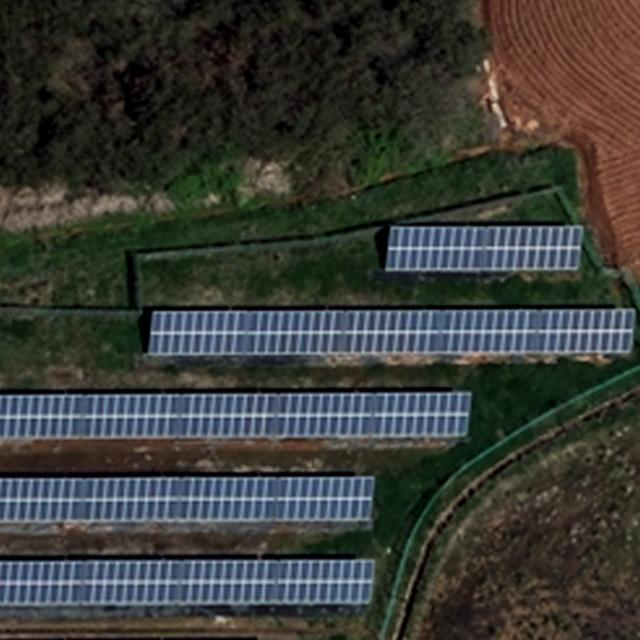panel: (147, 305, 638, 360), (1, 387, 472, 443), (2, 555, 379, 608), (1, 473, 378, 525), (383, 220, 586, 272)
